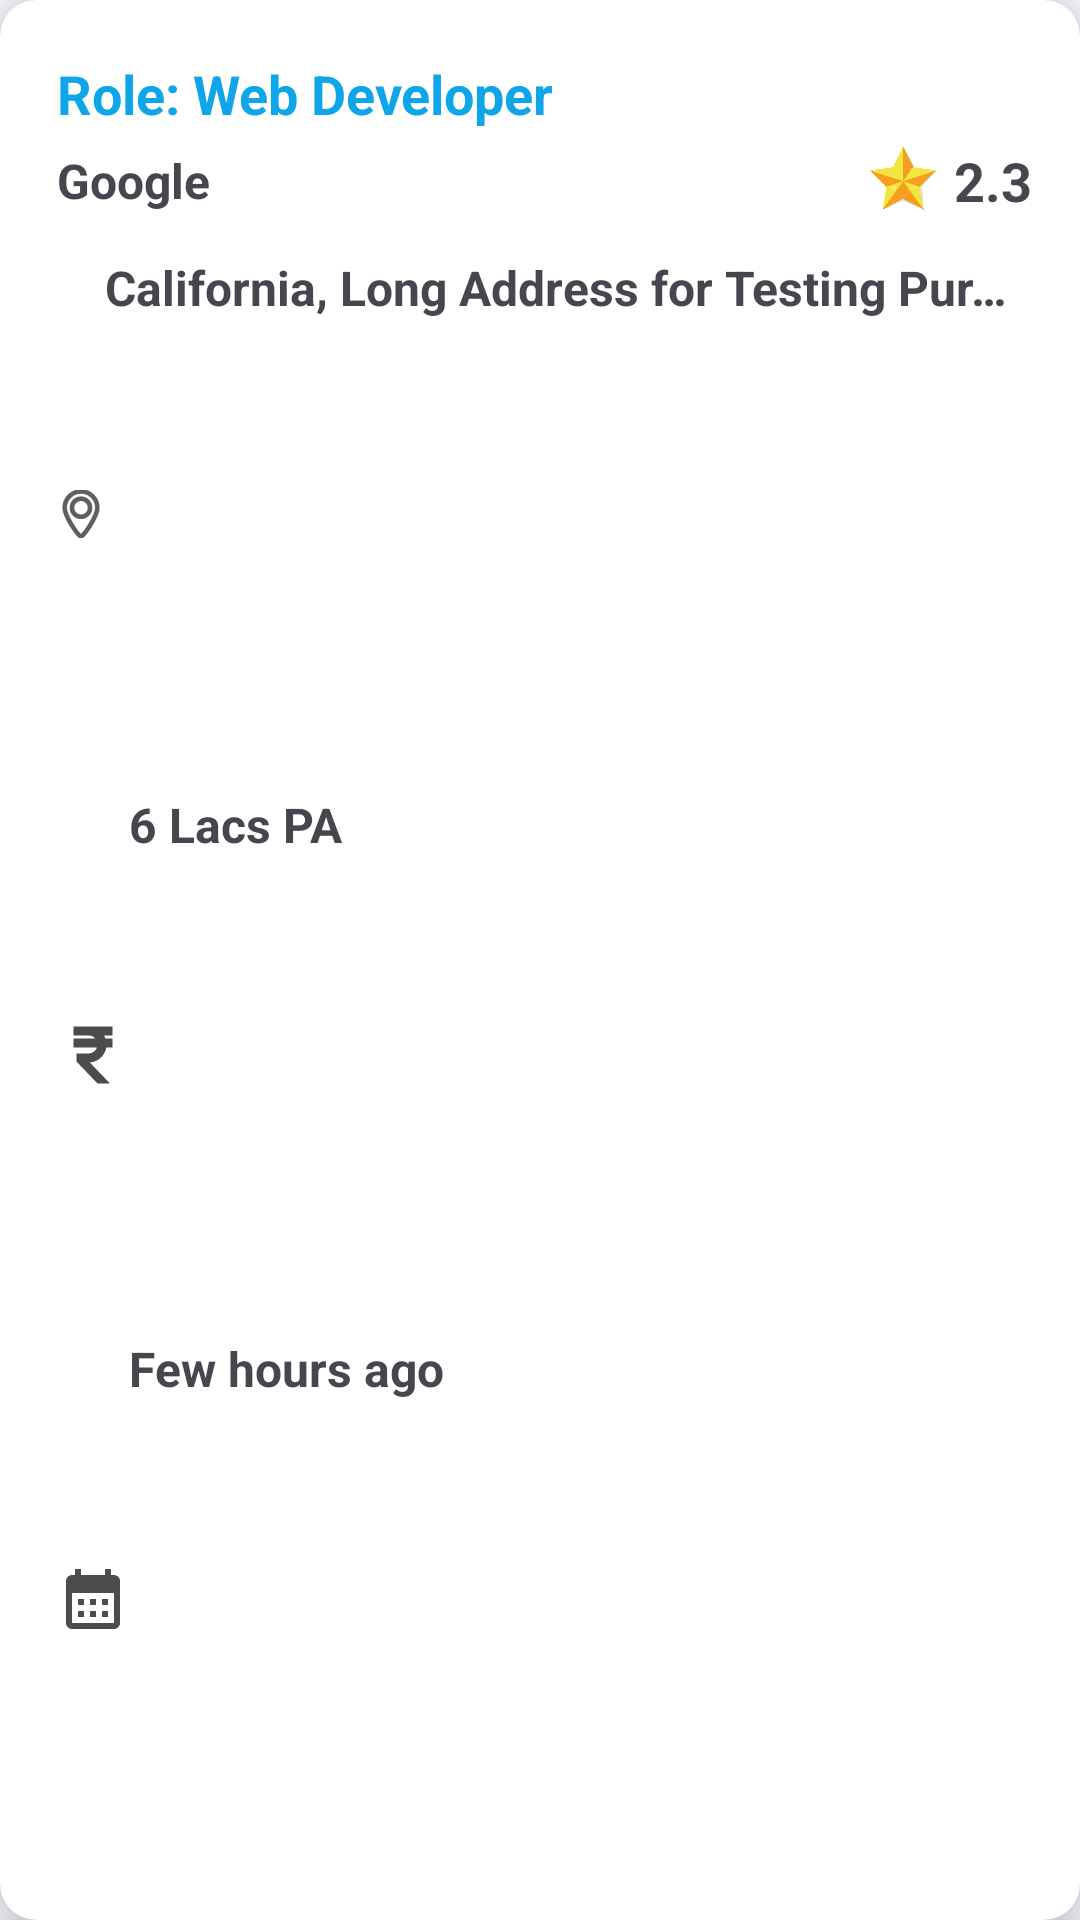

Icons on this 1080x1920 Android screen, each with the point to tap as (x,y):
rating: (903,178)
